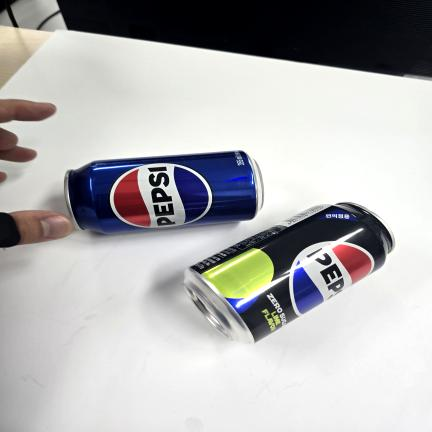can_pepsi: (65, 149, 266, 237)
can_pepsi_zero: (182, 202, 395, 343)
